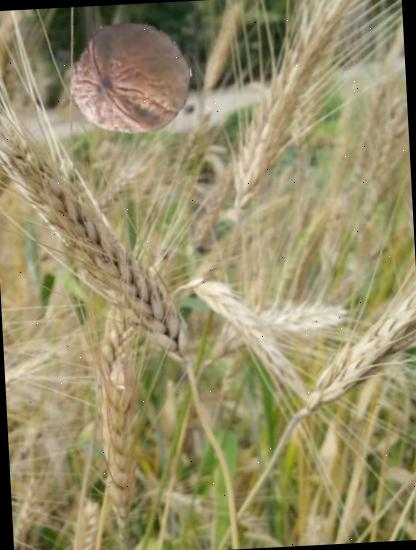Walnut: (66, 14, 196, 143)
